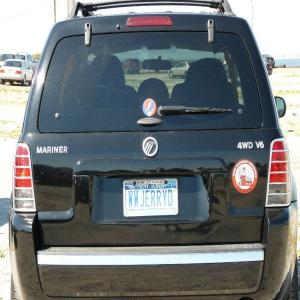Vehicle-registration-plate: (119, 179, 184, 227)
